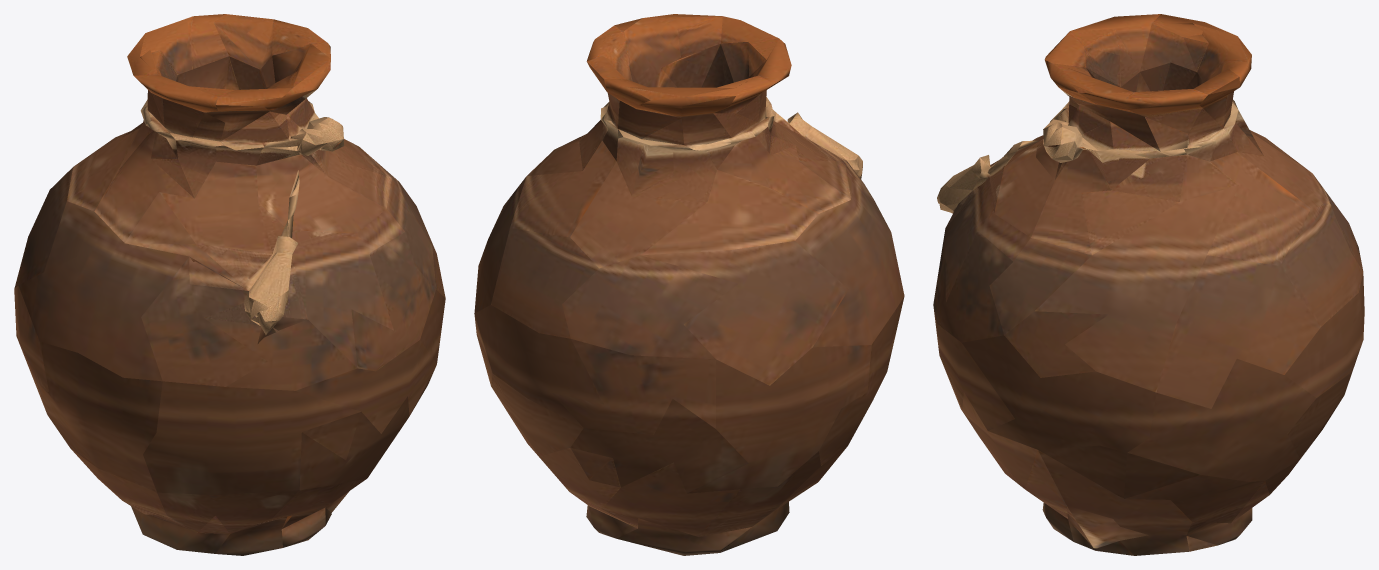
File: jar.glb
3 renders of one model, left to right at view 1: azimuth 30°, elevation 25°; view 2: azimuth 150°, elevation 25°; view 3: azimuth 270°, elevation 25°, orthographic.
Parts seen in each view (by area): view 1: environment-jar, environment-jar-background; view 2: environment-jar, environment-jar-background; view 3: environment-jar, environment-jar-background.
Boxes of the visible parts, <box> form: environment-jar: <box>14,14,445,555</box>; environment-jar-background: <box>44,50,349,533</box>; environment-jar: <box>474,14,904,555</box>; environment-jar-background: <box>474,44,862,372</box>; environment-jar: <box>933,14,1364,555</box>; environment-jar-background: <box>946,23,1320,548</box>.
Bounding box in the file's own units: 22 × 26 × 22.
Materials: 1 (1 with a texture image).
